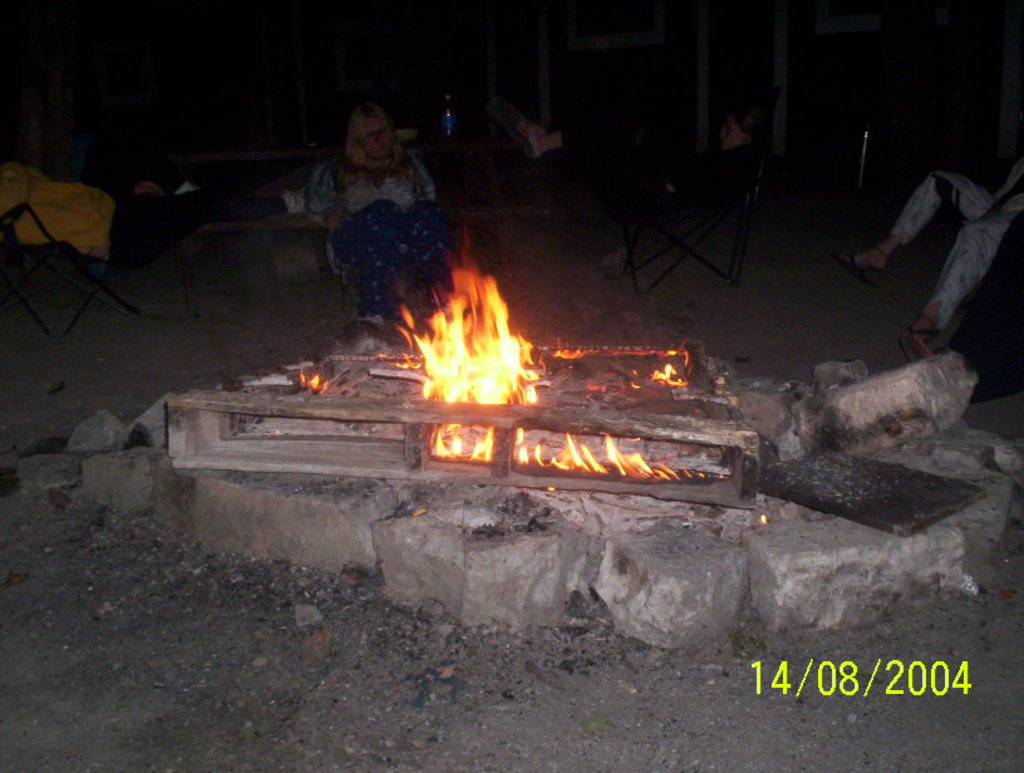Person: (0, 143, 312, 268), (842, 148, 1024, 346), (516, 109, 772, 224)
